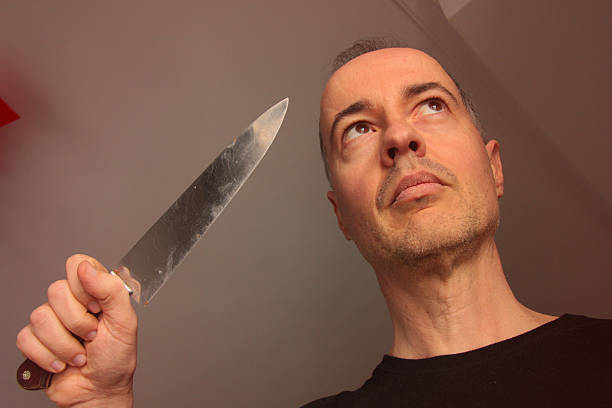knife: (14, 95, 292, 392)
